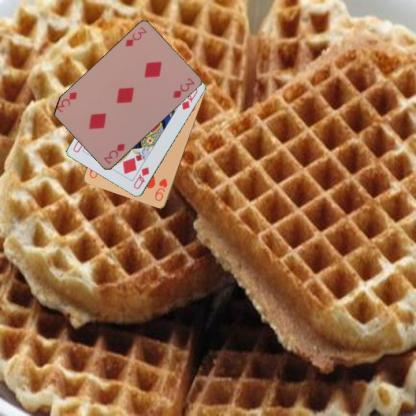3d: (122, 24, 148, 49), (101, 141, 126, 165)
9h: (152, 176, 168, 202)
Qd: (131, 164, 151, 190)
